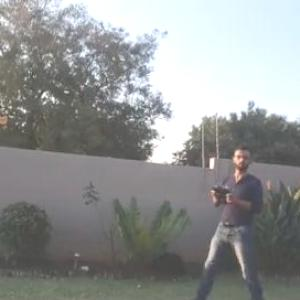follow: (184, 132, 272, 299)
